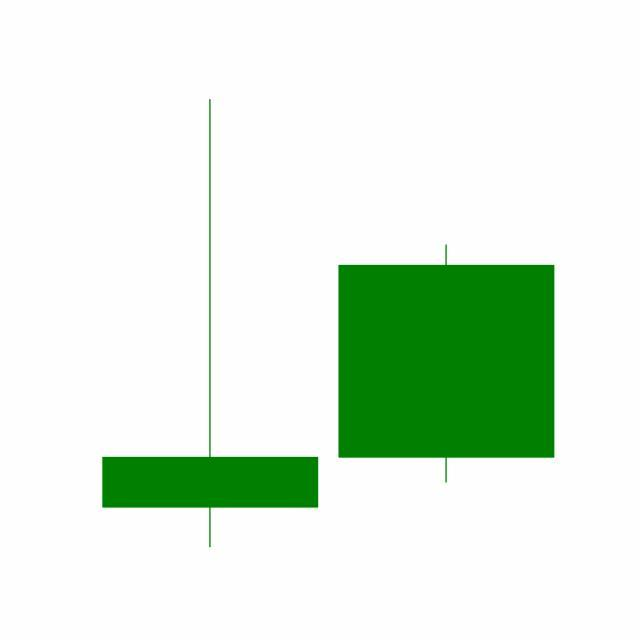Marubozu: (328, 242, 566, 487)
